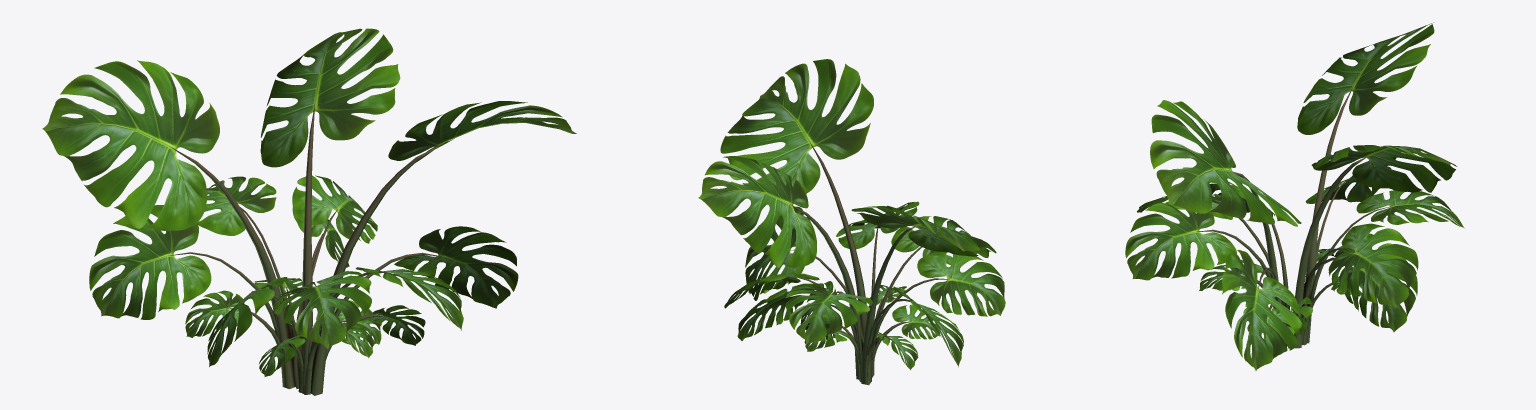
File: tree16.fbx
The picture shows the model from 3 angles, left to right: view 1: azimuth 30°, elevation 25°; view 2: azimuth 150°, elevation 25°; view 3: azimuth 270°, elevation 25°; orthographic projection. The views are drawn at different scales.
Parts seen in each view (by area): view 1: tree.003SM_MZRa_Monstera_B073; view 2: tree.003SM_MZRa_Monstera_B073; view 3: tree.003SM_MZRa_Monstera_B073.
Boxes of the visible parts, left/top/right/bottom form: tree.003SM_MZRa_Monstera_B073: left=42, top=28, right=576, bottom=395; tree.003SM_MZRa_Monstera_B073: left=698, top=59, right=1005, bottom=385; tree.003SM_MZRa_Monstera_B073: left=1125, top=22, right=1464, bottom=370.
Bounding box in the file's own units: 346 × 237 × 323.
